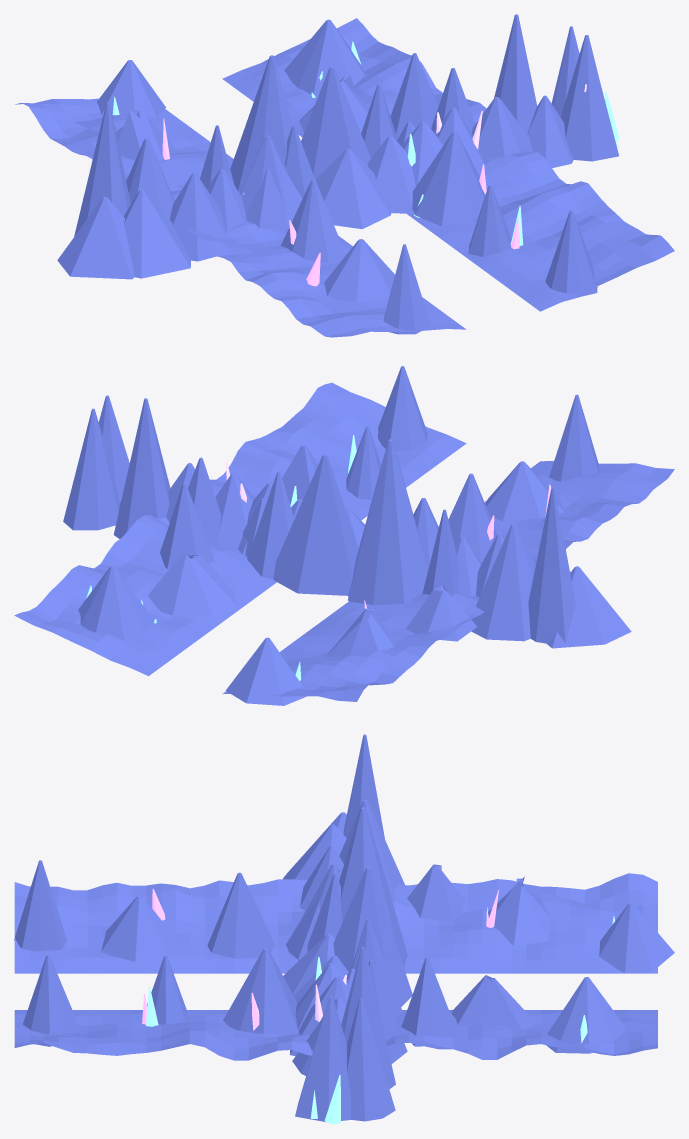
File: landscape_flug.glb
3 renders of one model, top to bottom at view 1: azimuth 30°, elevation 25°; view 2: azimuth 150°, elevation 25°; view 3: azimuth 270°, elevation 25°, orthographic.
Visible parts, largest first — view 1: corr_rock, back_rock, corr_crystal_pink; view 2: corr_rock, back_rock; view 3: corr_rock, back_rock, corr_crystal_pink, back_crystal_cyan.
Boxes of the visible parts, <box> form: corr_rock: <box>15,18,674,337</box>; back_rock: <box>57,14,618,279</box>; corr_crystal_pink: <box>162,118,519,286</box>; corr_rock: <box>14,366,674,705</box>; back_rock: <box>63,395,631,648</box>; corr_rock: <box>14,860,674,1060</box>; back_rock: <box>283,734,412,1122</box>; corr_crystal_pink: <box>142,888,498,1030</box>; back_crystal_cyan: <box>310,957,340,1124</box>.
Bounding box in the file's own units: 362 × 98.25 × 370.
